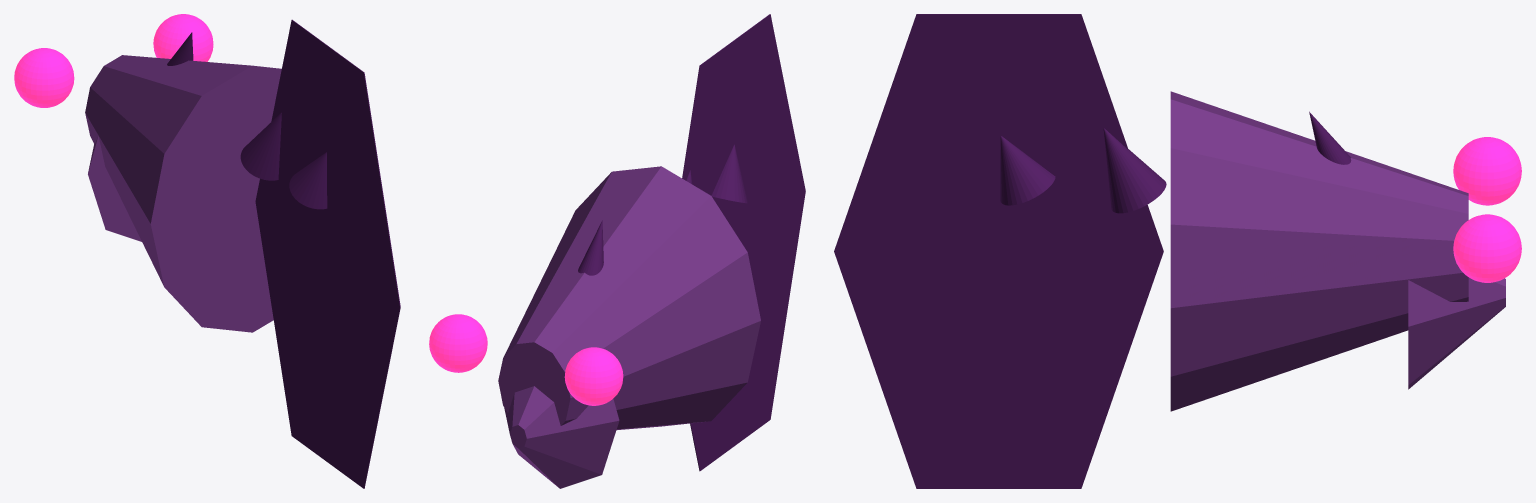
The model's file is predator.glb.
3 views of the same model, side by side, from view 1: azimuth 30°, elevation 25°; view 2: azimuth 150°, elevation 25°; view 3: azimuth 270°, elevation 25° (orthographic). The views are drawn at different scales.
Visible parts, largest first — view 1: Predator_TailFin, Predator_Torso, Predator_Eye_Left, Predator_Jaw, Predator_Eye_Right, Dorsal_Spike_2, Dorsal_Spike_3, Dorsal_Spike_0; view 2: Predator_Torso, Predator_TailFin, Predator_Jaw, Predator_Eye_Right, Predator_Eye_Left, Dorsal_Spike_3, Dorsal_Spike_0; view 3: Predator_TailFin, Predator_Torso, Predator_Jaw, Predator_Eye_Right, Predator_Eye_Left, Dorsal_Spike_2, Dorsal_Spike_3, Dorsal_Spike_0.
Part boxes in pixels (<box>): Predator_TailFin: <box>255,19,400,488</box>; Predator_Torso: <box>85,55,281,332</box>; Predator_Eye_Left: <box>14,48,74,107</box>; Predator_Jaw: <box>88,136,141,241</box>; Predator_Eye_Right: <box>153,14,213,61</box>; Dorsal_Spike_2: <box>240,112,281,180</box>; Dorsal_Spike_3: <box>289,152,327,209</box>; Dorsal_Spike_0: <box>167,32,193,65</box>; Predator_Torso: <box>498,166,760,430</box>; Predator_TailFin: <box>682,14,805,471</box>; Predator_Jaw: <box>504,386,619,488</box>; Predator_Eye_Right: <box>429,314,487,372</box>; Predator_Eye_Left: <box>564,347,623,405</box>; Dorsal_Spike_3: <box>711,144,747,203</box>; Dorsal_Spike_0: <box>578,220,603,275</box>; Predator_TailFin: <box>834,14,1163,488</box>; Predator_Torso: <box>1170,91,1468,411</box>; Predator_Jaw: <box>1408,277,1505,389</box>; Predator_Eye_Right: <box>1453,214,1521,282</box>; Predator_Eye_Left: <box>1453,137,1521,205</box>; Dorsal_Spike_2: <box>1103,128,1166,213</box>; Dorsal_Spike_3: <box>1000,136,1055,205</box>; Dorsal_Spike_0: <box>1309,111,1351,164</box>.
Bounding box in the file's own units: 3.52 × 6.86 × 9.01.
